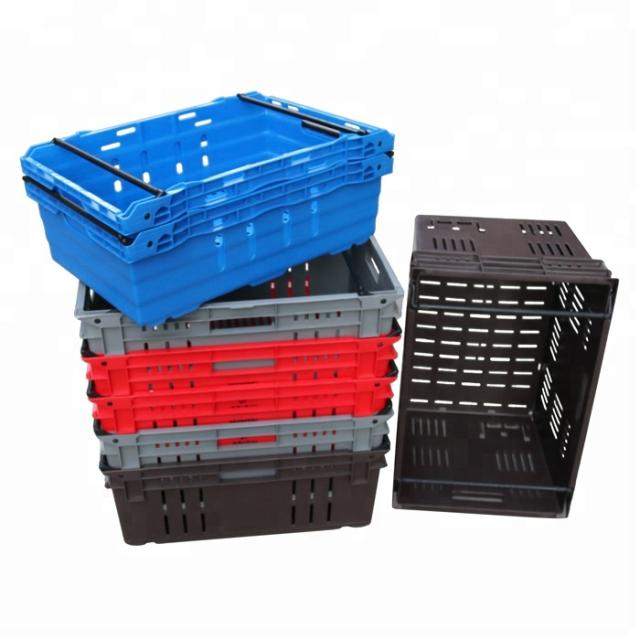basket: (12, 26, 427, 351), (70, 236, 407, 359), (84, 331, 405, 437), (93, 398, 397, 473)
